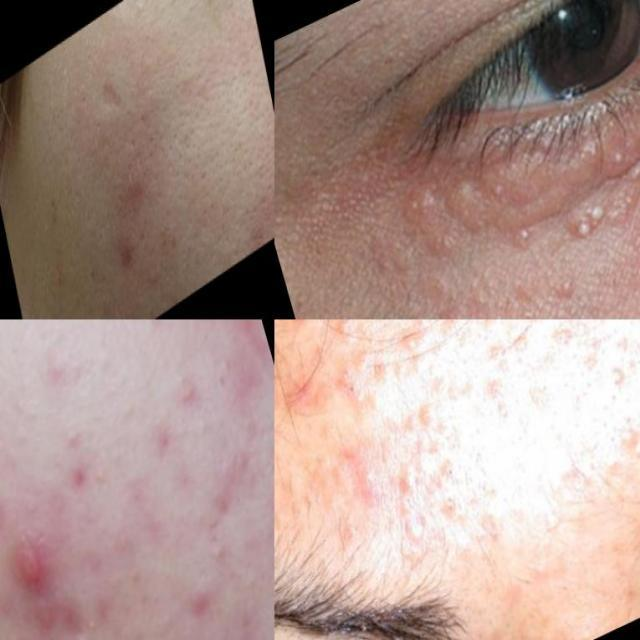Pimples: (374, 182, 468, 288), (440, 156, 525, 242), (536, 121, 620, 195), (0, 516, 64, 609), (544, 196, 618, 268), (108, 149, 154, 223), (93, 65, 127, 126), (347, 450, 384, 500), (328, 360, 364, 410), (604, 141, 640, 188), (535, 319, 573, 363), (483, 333, 517, 382), (482, 384, 516, 428), (432, 488, 462, 534), (434, 452, 462, 486)
